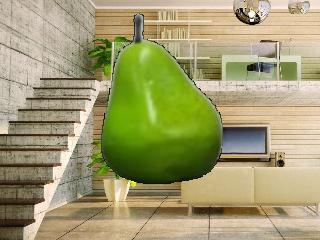pear: (99, 10, 227, 188)
